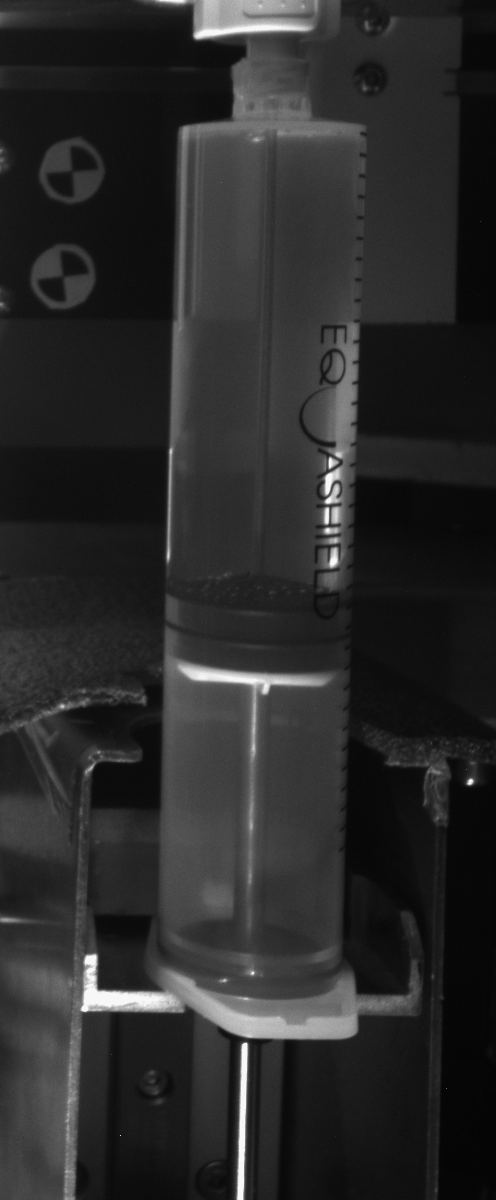piston: (163, 591, 360, 698)
